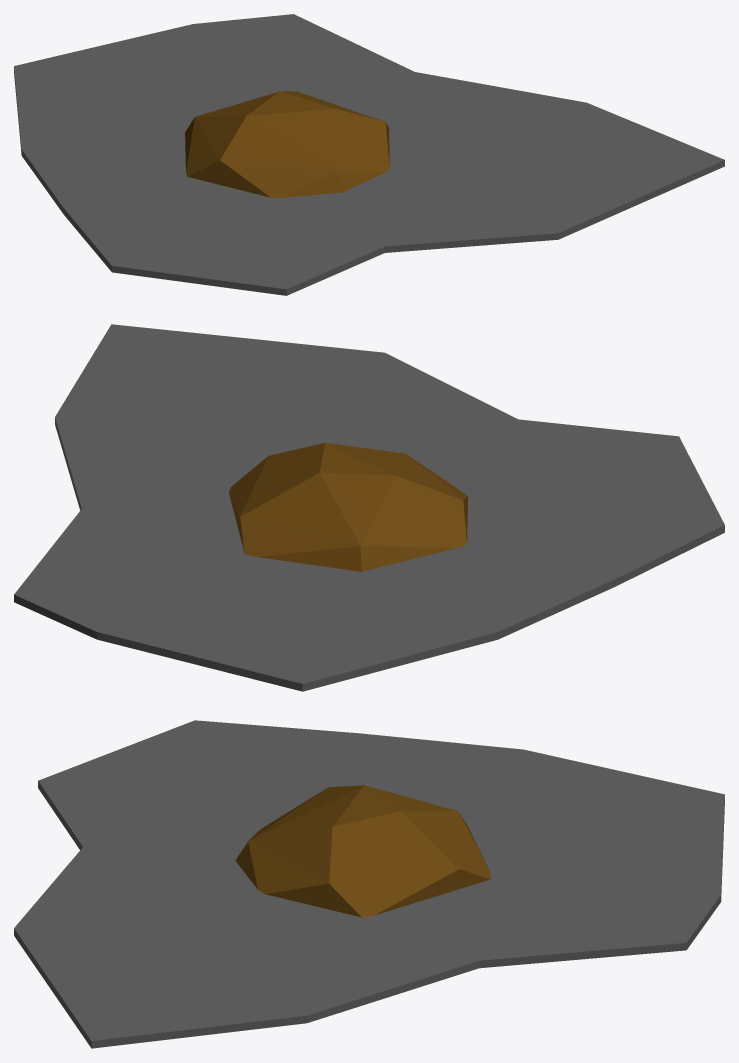
Rendered from Egg_Fried.obj.
3 renders of one model, top to bottom at view 1: azimuth 30°, elevation 25°; view 2: azimuth 150°, elevation 25°; view 3: azimuth 270°, elevation 25°, orthographic. The views are drawn at different scales.
Parts seen in each view (by area): view 1: Egg_Fried_Plane.003; view 2: Egg_Fried_Plane.003; view 3: Egg_Fried_Plane.003.
Part boxes in pixels (x1=…): Egg_Fried_Plane.003: x1=14, y1=14, x2=724, y2=295; Egg_Fried_Plane.003: x1=14, y1=324, x2=724, y2=691; Egg_Fried_Plane.003: x1=14, y1=720, x2=724, y2=1048.
Bounding box in the file's own units: 1.19 × 0.1071 × 1.12.
